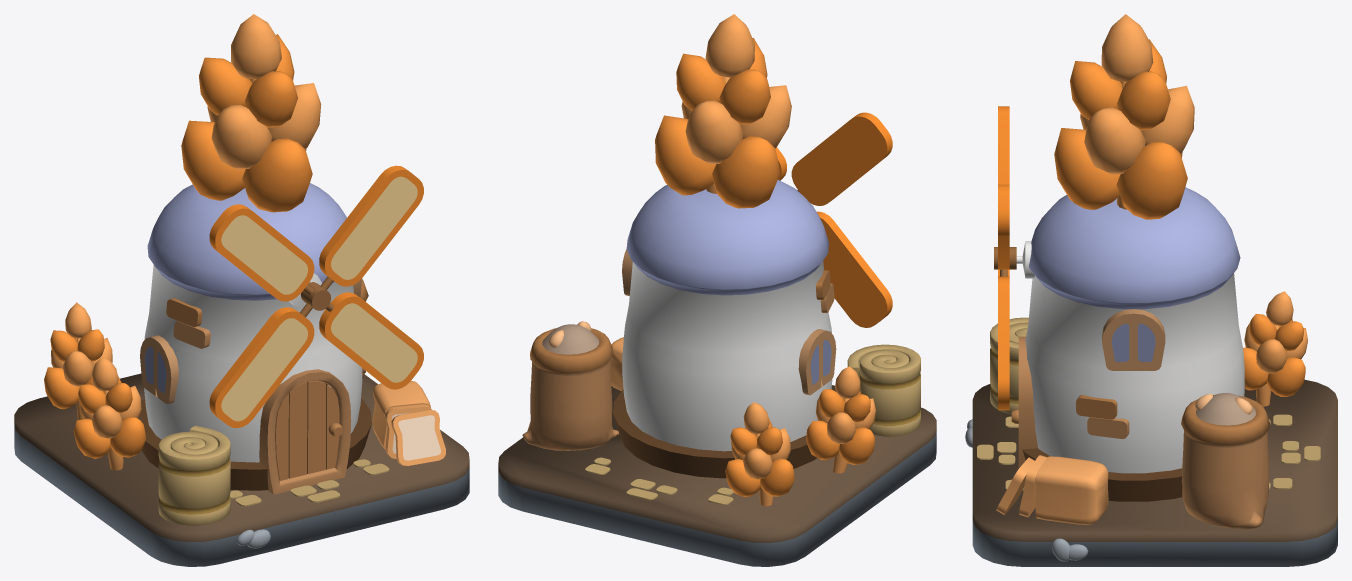
The model's file is Mill.fbx.
3 renders of one model, left to right at view 1: azimuth 30°, elevation 25°; view 2: azimuth 150°, elevation 25°; view 3: azimuth 270°, elevation 25°, orthographic. The views are drawn at different scales.
Parts seen in each view (by area): view 1: Mill.004, Mill, Mill.003, Mill.006, Mill.001, Mill.002, Mill.009, Mill.005, Mill.008; view 2: Mill.004, Mill, Mill.006, Mill.007, Mill.003, Mill.001, Mill.009, Mill.008, Mill.005; view 3: Mill.004, Mill, Mill.006, Mill.007, Mill.005, Mill.008, Mill.003, Mill.001.
Boxes of the visible parts, x1,y1,x2,y2 form: Mill.004: [138, 183, 371, 494]; Mill: [14, 373, 469, 566]; Mill.003: [209, 165, 423, 428]; Mill.006: [181, 14, 321, 212]; Mill.001: [158, 425, 230, 525]; Mill.002: [275, 380, 342, 480]; Mill.009: [73, 356, 145, 470]; Mill.005: [372, 381, 445, 465]; Mill.008: [44, 302, 112, 419]; Mill.004: [613, 180, 836, 478]; Mill: [498, 385, 936, 566]; Mill.006: [655, 14, 791, 208]; Mill.007: [522, 321, 618, 450]; Mill.003: [775, 112, 892, 327]; Mill.001: [847, 344, 920, 436]; Mill.009: [806, 366, 875, 473]; Mill.008: [725, 402, 794, 506]; Mill.005: [610, 337, 623, 390]; Mill.004: [1016, 187, 1244, 501]; Mill: [965, 379, 1337, 566]; Mill.006: [1054, 14, 1194, 219]; Mill.007: [1181, 393, 1269, 529]; Mill.005: [996, 455, 1108, 524]; Mill.008: [1243, 291, 1307, 406]; Mill.003: [994, 106, 1016, 410]; Mill.001: [990, 317, 1028, 414].
Bounding box in the file's own units: 9.06 × 12.39 × 8.82.
